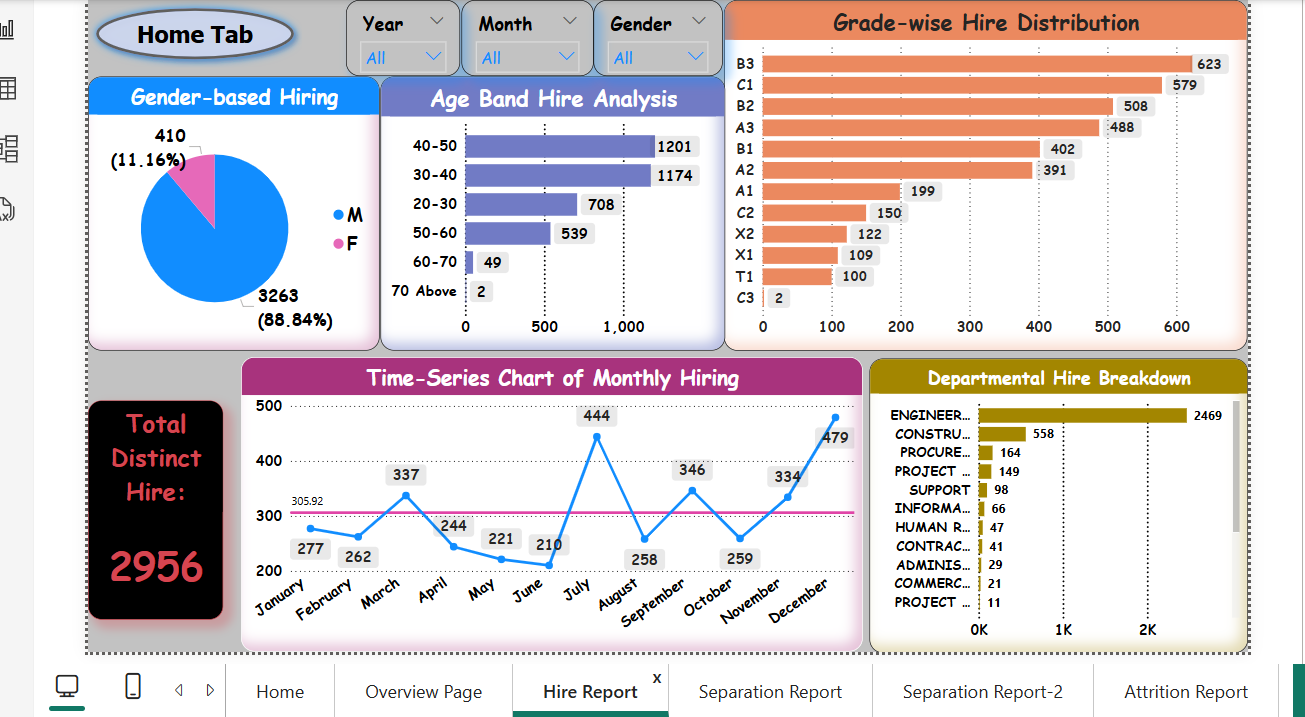

The page's visual inventory and layout, read from the dashboard file:
{"tool":"powerbi","page":{"name":"Hire Report","canvas":[1280,720],"ordinal":2},"visuals":[{"type":"lineChart","title":"Time-Series Chart of Monthly Hiring","fields":{"Y":["CountNonNull(Active 2024.Employee Status)"],"Category":["Active 2024.Hire Date.Variation.Date Hierarchy.Month"]},"box":[169.3,393.9,686.9,325.6],"z":0},{"type":"clusteredBarChart","title":"Grade-wise Hire Distribution","fields":{"Category":["Active 2024.Grade"],"Y":["CountNonNull(Active 2024.Employee Status)"]},"box":[701.6,0,577.9,387.4],"z":1000},{"type":"clusteredBarChart","title":"Age Band Hire Analysis","fields":{"Category":["Active 2024.Age Group"],"Y":["CountNonNull(Active 2024.Age)"]},"box":[322.3,84.6,380.9,302.8],"z":2000},{"type":"pieChart","title":"Gender-based Hiring","fields":{"Y":["CountNonNull(Active 2024.Employee Status)"],"Category":["Active 2024.Gender"]},"box":[0,84.6,322.3,302.8],"z":3000},{"type":"clusteredBarChart","title":"Departmental Hire Breakdown","fields":{"Y":["CountNonNull(Active 2024.Employee Status)"],"Category":["Active 2024.Job Group"]},"box":[863,395.1,417.8,325.5],"z":4000},{"type":"slicer","fields":{"Values":["Active 2024.Hire Date.Variation.Date Hierarchy.Year"]},"box":[285,0,126.3,84.2],"z":5000},{"type":"slicer","fields":{"Values":["Active 2024.Hire Date.Variation.Date Hierarchy.Month"]},"box":[412.9,0,145.7,84.2],"z":6000},{"type":"slicer","fields":{"Values":["Active 2024.Gender"]},"box":[558.6,0,142.5,84.2],"z":7000},{"type":"cardVisual","title":"Total Distinct Hire:","fields":{"Data":["Count(Hiretermination.Group Person ID)"]},"box":[0,443,149,242.2],"z":8000},{"type":"actionButton","box":[0,0,236.4,74.5],"z":9000}]}

Visuals, with their boxes on the page's 1280x720 design canvas (x1, y1, x2, y2). These are canvas units, not pixel positions in the 1305x717 screenshot, which may show the page scaled, cropped or inside an application window:
"Time-Series Chart of Monthly Hiring" lineChart: l=169, t=394, r=856, b=720
"Grade-wise Hire Distribution" clusteredBarChart: l=702, t=0, r=1280, b=387
"Age Band Hire Analysis" clusteredBarChart: l=322, t=85, r=703, b=387
"Gender-based Hiring" pieChart: l=0, t=85, r=322, b=387
"Departmental Hire Breakdown" clusteredBarChart: l=863, t=395, r=1281, b=721
slicer - Active 2024.Hire Date.Variation.Date Hierarchy.Year: l=285, t=0, r=411, b=84
slicer - Active 2024.Hire Date.Variation.Date Hierarchy.Month: l=413, t=0, r=559, b=84
slicer - Active 2024.Gender: l=559, t=0, r=701, b=84
"Total Distinct Hire:" cardVisual: l=0, t=443, r=149, b=685
actionButton: l=0, t=0, r=236, b=74
